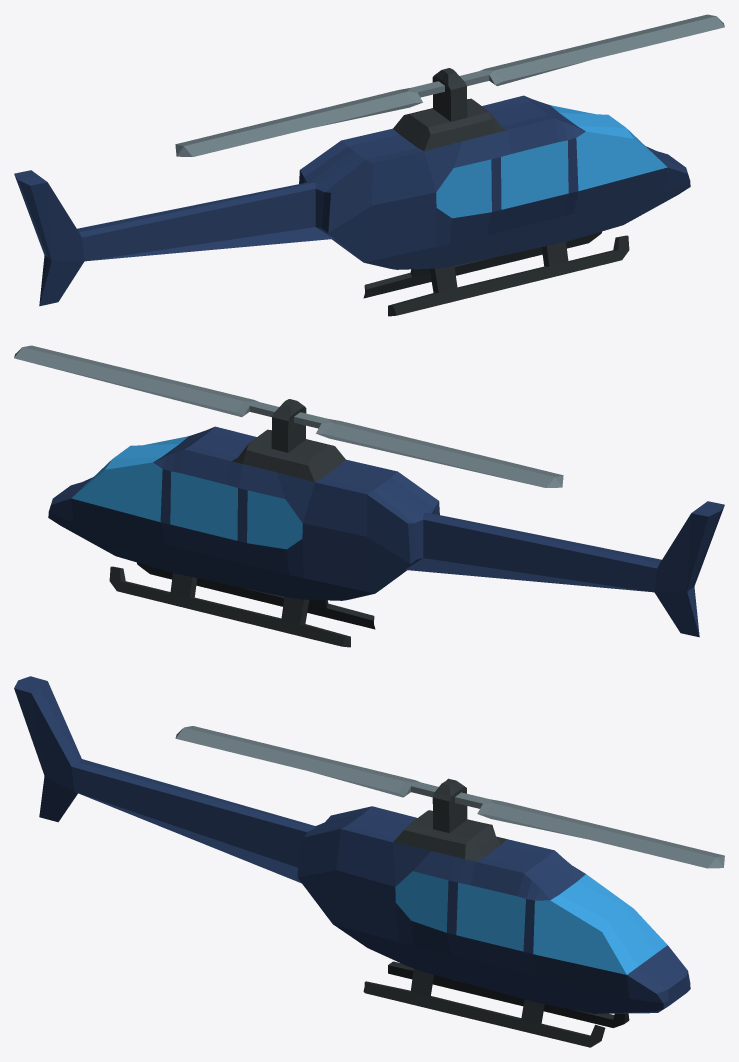
Rendered from low_poly_helicopter.glb.
3 views of the same model, one above another, from view 1: azimuth 30°, elevation 25°; view 2: azimuth 150°, elevation 25°; view 3: azimuth 330°, elevation 25° (orthographic).
Visible parts, largest first — view 1: Helicopter, Rotor; view 2: Helicopter, Rotor; view 3: Helicopter, Rotor.
Boxes of the visible parts, <box> form: Helicopter: <box>14,95,690,316</box>; Rotor: <box>175,14,724,156</box>; Helicopter: <box>48,426,724,647</box>; Rotor: <box>14,345,563,487</box>; Helicopter: <box>14,676,690,1047</box>; Rotor: <box>175,726,724,868</box>.
Size of the model in its own units: 412 by 122 by 45.68.
